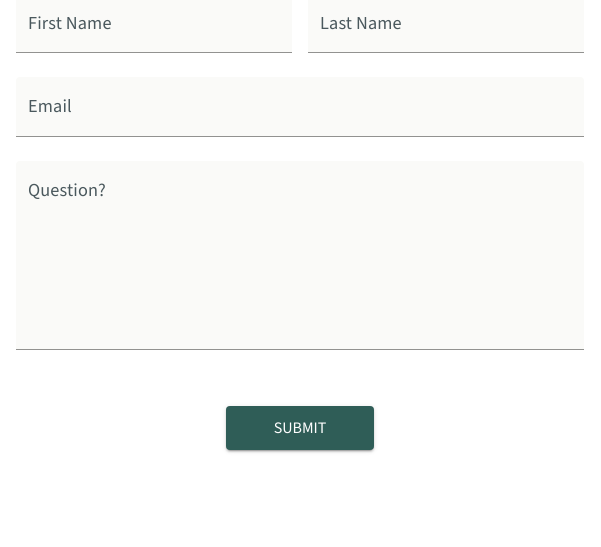
when Formspree is configured › does not send while fields are invalid
The width and height of the screenshot is (601, 547).
Click the button "Submit": (300, 428) [226,406,374,450]
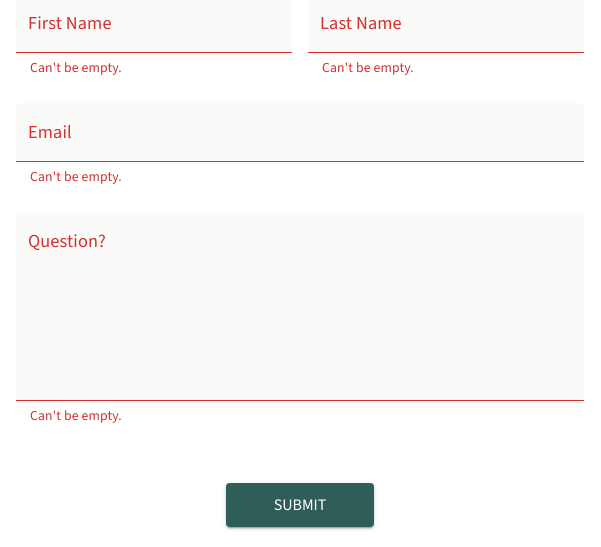
Now the text "Can't be empty." below "First Name" is shown, box [30,58,122,76]
